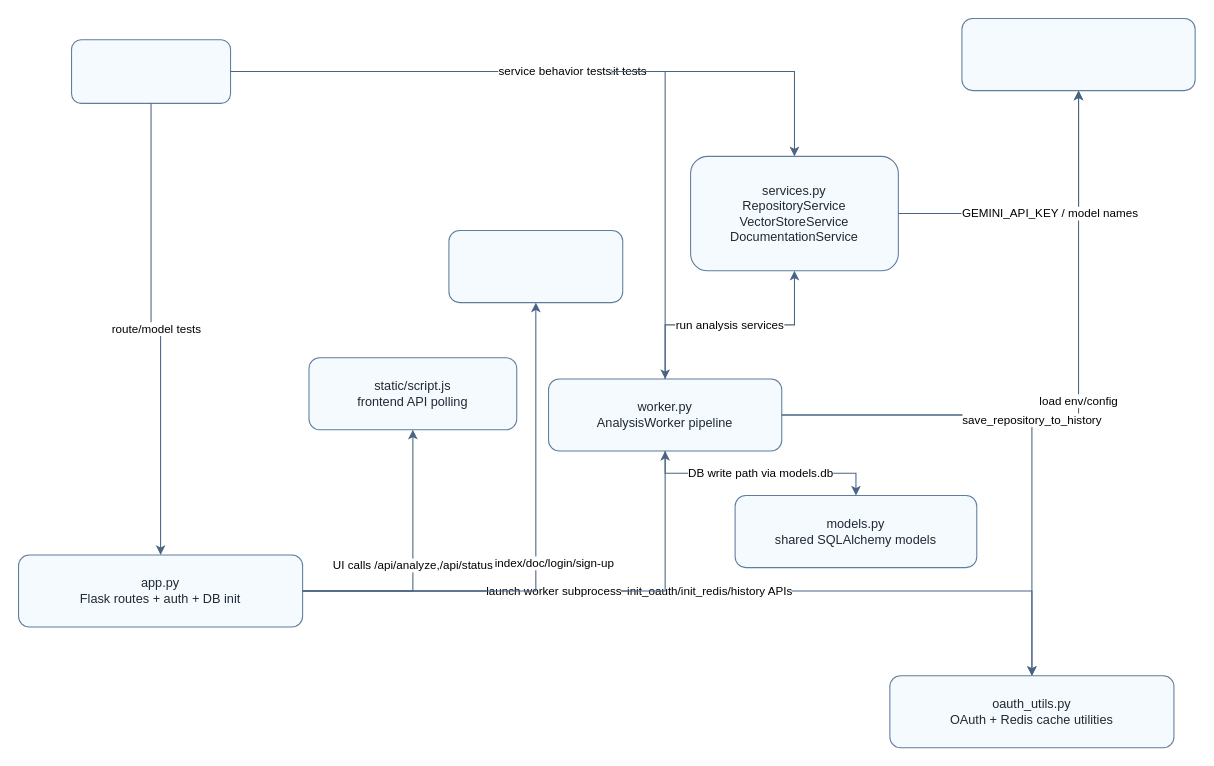
The diagram is 1214 pixels wide and 766 high, and some of its shapes have lost their labels. The shapes that lost their labels are listed below. From the top down, each one's centre as x and y in pixels, then its label:
At pixel 150 71: "tests/*.py".
At pixel 1078 54: "config.py models, paths, settings".
At pixel 535 266: "templates/*.html UI + doc viewer".
